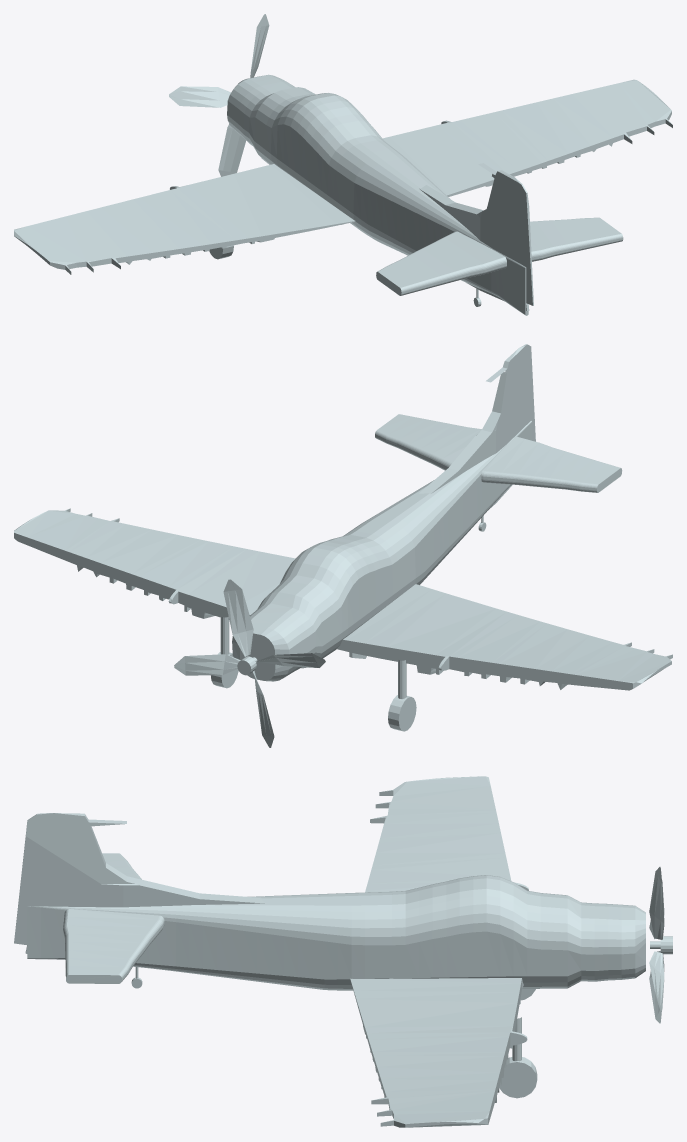
3 views of the same model, one above another, from view 1: azimuth 30°, elevation 25°; view 2: azimuth 150°, elevation 25°; view 3: azimuth 270°, elevation 25° (orthographic). The views are drawn at different scales.
Visible parts, largest first — view 1: Aircraft visual hull, Rotor 1791670704644-m00lv2o4tf; view 2: Aircraft visual hull, Rotor 1791670704644-m00lv2o4tf, Landing gear; view 3: Aircraft visual hull, Rotor 1791670704644-m00lv2o4tf, Landing gear.
Boxes of the visible parts, box(x1,y1,x2,y2) form: Aircraft visual hull: box(14, 74, 672, 315); Rotor 1791670704644-m00lv2o4tf: box(169, 14, 269, 176); Aircraft visual hull: box(14, 344, 672, 690); Rotor 1791670704644-m00lv2o4tf: box(174, 579, 325, 747); Landing gear: box(211, 516, 486, 731); Aircraft visual hull: box(14, 776, 645, 1127); Rotor 1791670704644-m00lv2o4tf: box(649, 867, 672, 1023); Landing gear: box(131, 967, 537, 1098).
Size of the model in its own units: 15.24 by 4.83 by 12.31.
